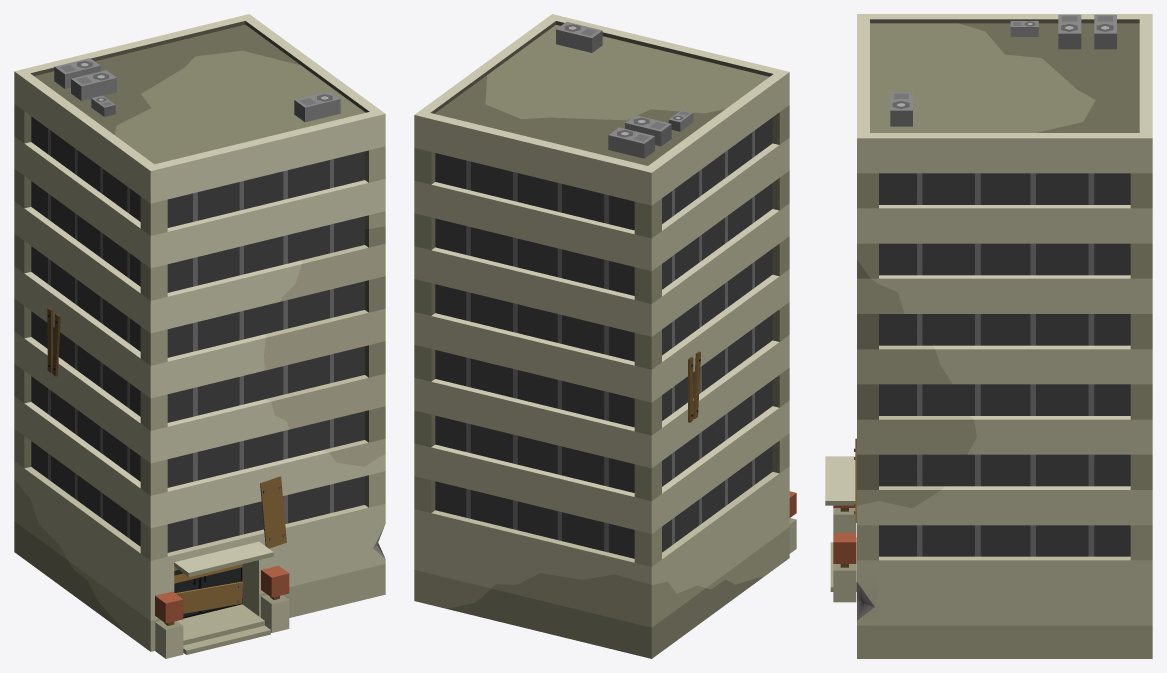
Rendered from SA_Bld_OfficeWhite_03.gltf.
3 views of the same model, side by side, from view 1: azimuth 30°, elevation 25°; view 2: azimuth 150°, elevation 25°; view 3: azimuth 270°, elevation 25° (orthographic). The views are drawn at different scales.
Visible parts, largest first — view 1: SA_Bld_OfficeWhite_03; view 2: SA_Bld_OfficeWhite_03; view 3: SA_Bld_OfficeWhite_03.
Part boxes in pixels (box(x1,y1,x2,y2)): SA_Bld_OfficeWhite_03: box(14, 14, 385, 658); SA_Bld_OfficeWhite_03: box(414, 14, 796, 658); SA_Bld_OfficeWhite_03: box(825, 14, 1152, 658).
Size of the model in its own units: 13.82 by 27.24 by 15.17.
1 material, 1 textured.
